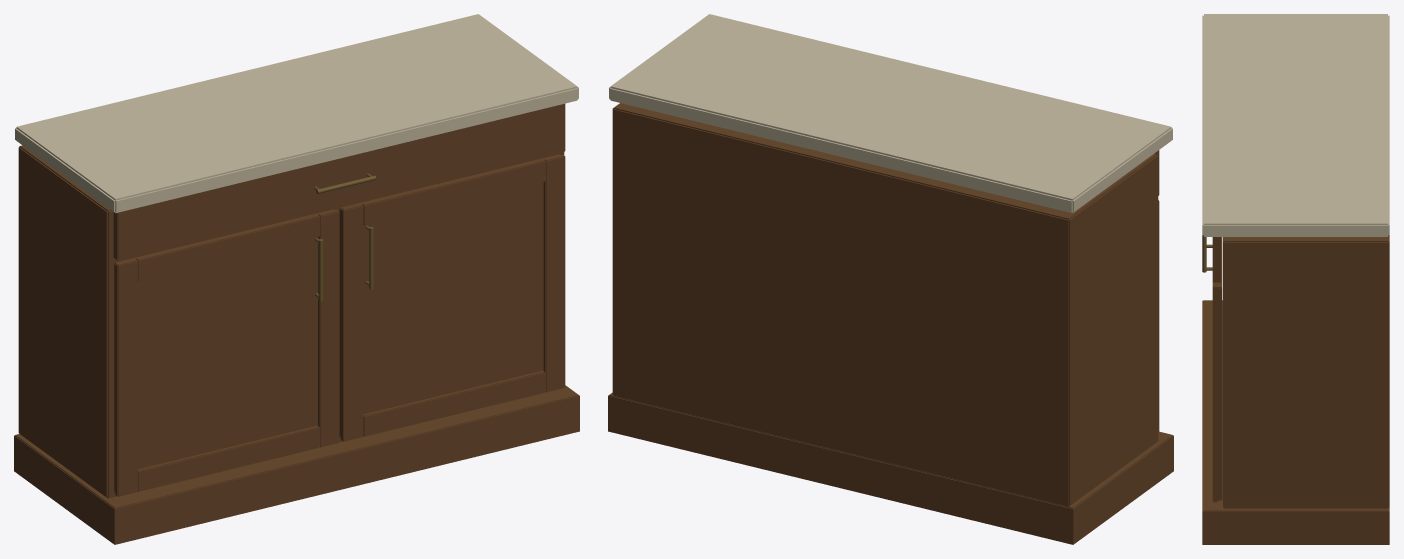
File: cabinet.glb
The picture shows the model from 3 angles, left to right: view 1: azimuth 30°, elevation 25°; view 2: azimuth 150°, elevation 25°; view 3: azimuth 270°, elevation 25°; orthographic projection. The views are drawn at different scales.
Parts seen in each view (by area): view 1: Countertop.008, LeftDoorPanel.008, RightDoorPanel.008, ClosedCarcass.008, ClosedFloorPlinth.008, WideDrawerFront.008, LeftOuterStile.008, RightInnerStile.008, RightOuterStile.008, LeftInnerStile.008, LeftTopRail.008, RightTopRail.008 (+2 smaller); view 2: ClosedCarcass.008, Countertop.008, ClosedFloorPlinth.008; view 3: ClosedCarcass.008, Countertop.008, ClosedFloorPlinth.008, RightDoorPanel.008, RightInnerStile.008, WideDrawerFront.008.
Part boxes in pixels (left/top/right/bottom): Countertop.008: left=15, top=14, right=578, bottom=213; LeftDoorPanel.008: left=114, top=209, right=334, bottom=491; RightDoorPanel.008: left=339, top=154, right=559, bottom=437; ClosedCarcass.008: left=18, top=145, right=564, bottom=498; ClosedFloorPlinth.008: left=14, top=385, right=579, bottom=544; WideDrawerFront.008: left=113, top=103, right=565, bottom=260; LeftOuterStile.008: left=115, top=259, right=137, bottom=496; RightInnerStile.008: left=543, top=154, right=565, bottom=392; RightOuterStile.008: left=341, top=204, right=362, bottom=441; LeftInnerStile.008: left=318, top=210, right=339, bottom=447; LeftTopRail.008: left=136, top=214, right=319, bottom=280; RightTopRail.008: left=361, top=159, right=545, bottom=225; ClosedCarcass.008: left=612, top=103, right=1158, bottom=506; Countertop.008: left=609, top=14, right=1172, bottom=213; ClosedFloorPlinth.008: left=608, top=392, right=1173, bottom=544; ClosedCarcass.008: left=1223, top=235, right=1389, bottom=508; Countertop.008: left=1202, top=14, right=1389, bottom=236; ClosedFloorPlinth.008: left=1202, top=300, right=1389, bottom=544; RightDoorPanel.008: left=1217, top=237, right=1222, bottom=500; RightInnerStile.008: left=1212, top=282, right=1217, bottom=502; WideDrawerFront.008: left=1212, top=237, right=1220, bottom=282.
Bounding box in the file's own units: 1.2 × 0.85 × 0.45.
